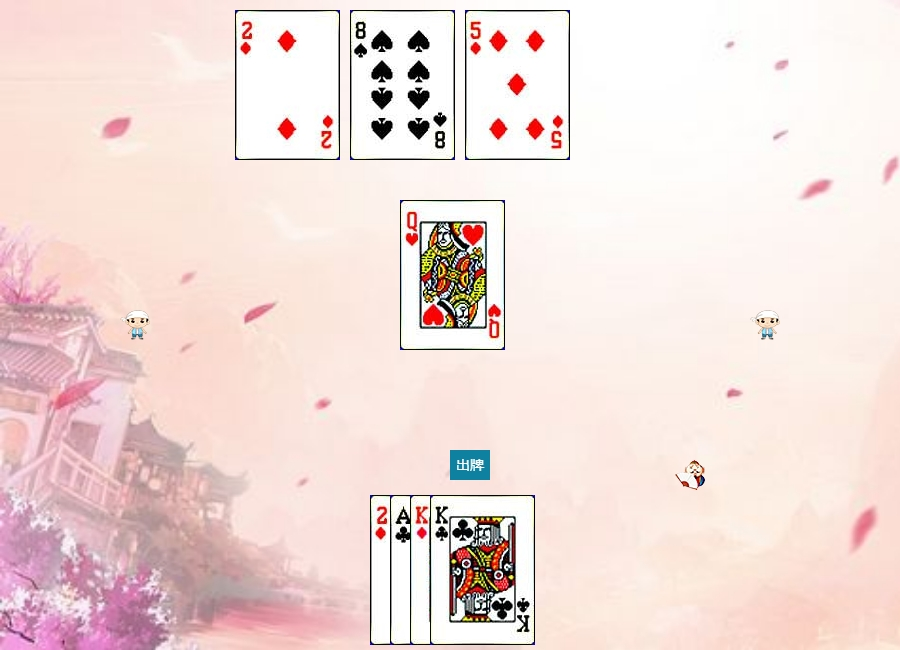12~3: (400, 200, 505, 350)
13~1: (410, 495, 515, 645)
13~2: (430, 495, 535, 645)
14~2: (390, 495, 495, 645)
15~1: (235, 10, 340, 160), (370, 495, 475, 645)
5~1: (465, 10, 570, 160)
8~4: (350, 10, 455, 160)
